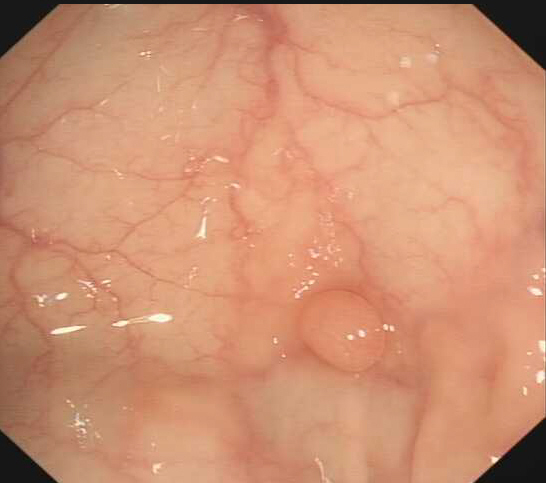adenoma: (291, 286, 390, 373)
